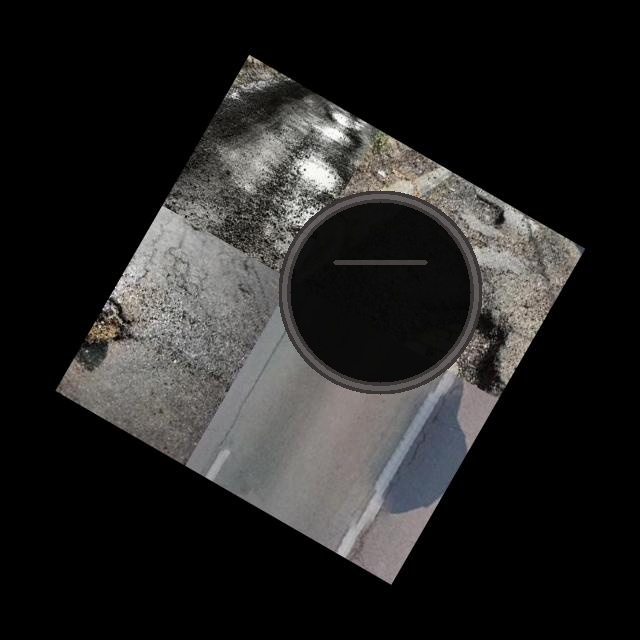open_manhole: (275, 187, 485, 397)
